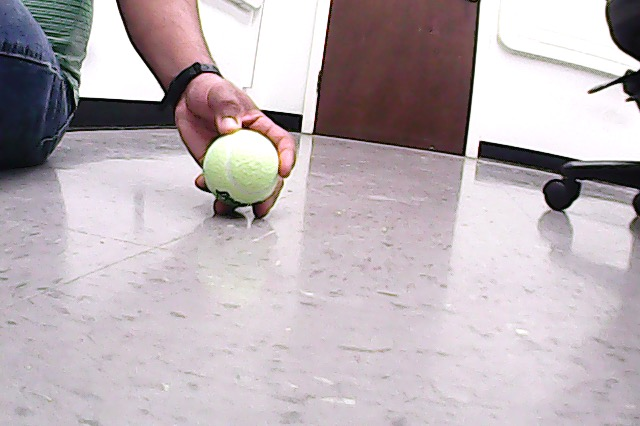ball: (201, 128, 284, 209)
